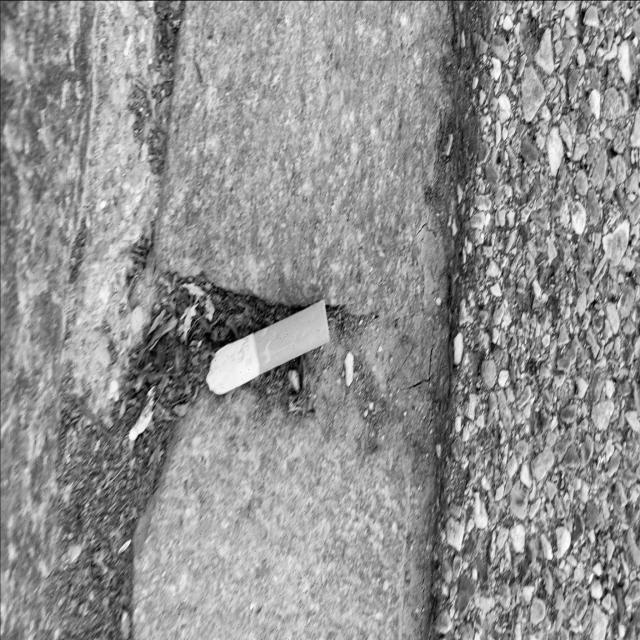other waste: (204, 297, 330, 396)
